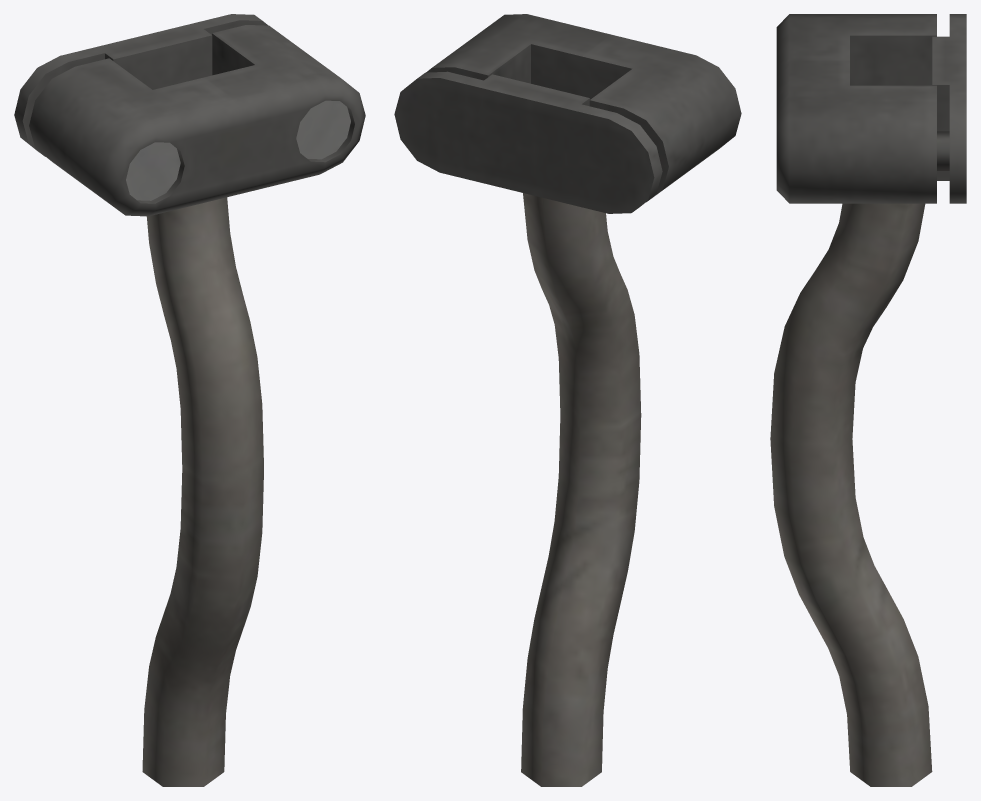
File: cable_bridge_3.glb
3 renders of one model, left to right at view 1: azimuth 30°, elevation 25°; view 2: azimuth 150°, elevation 25°; view 3: azimuth 270°, elevation 25°, orthographic.
Visible parts, largest first — view 1: cable_bridge_3.001; view 2: cable_bridge_3.001; view 3: cable_bridge_3.001.
Part boxes in pixels (<box>): cable_bridge_3.001: <box>14,14,365,786</box>; cable_bridge_3.001: <box>394,14,741,786</box>; cable_bridge_3.001: <box>770,14,966,786</box>.
Bounding box in the file's own units: 0.0416 × 0.1073 × 0.0268.
Materials: 1 (1 with a texture image).
